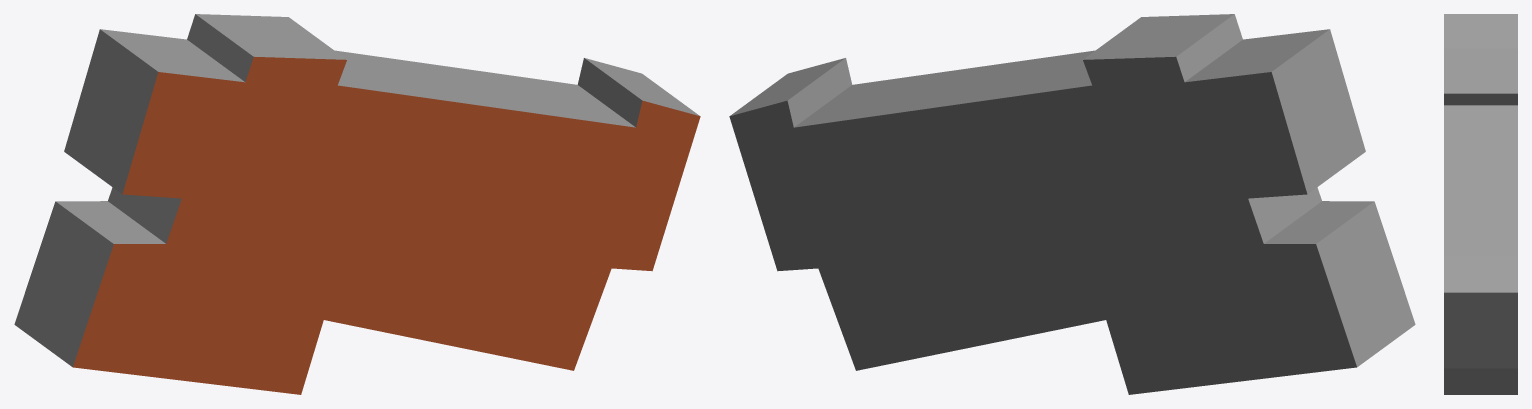
The model's file is construction_6070_assumed_A_Casa_h6m.obj.
3 renders of one model, left to right at view 1: azimuth 30°, elevation 25°; view 2: azimuth 150°, elevation 25°; view 3: azimuth 270°, elevation 25°, orthographic. The views are drawn at different scales.
Visible parts, largest first — view 1: construction_6070_assumed_A_Casa; view 2: construction_6070_assumed_A_Casa; view 3: construction_6070_assumed_A_Casa.
Boxes of the visible parts, bbox=[...] form: construction_6070_assumed_A_Casa: bbox=[14, 14, 700, 394]; construction_6070_assumed_A_Casa: bbox=[729, 14, 1415, 394]; construction_6070_assumed_A_Casa: bbox=[1444, 14, 1517, 394].
Bounding box in the file's own units: 37.2 × 22.67 × 6.
